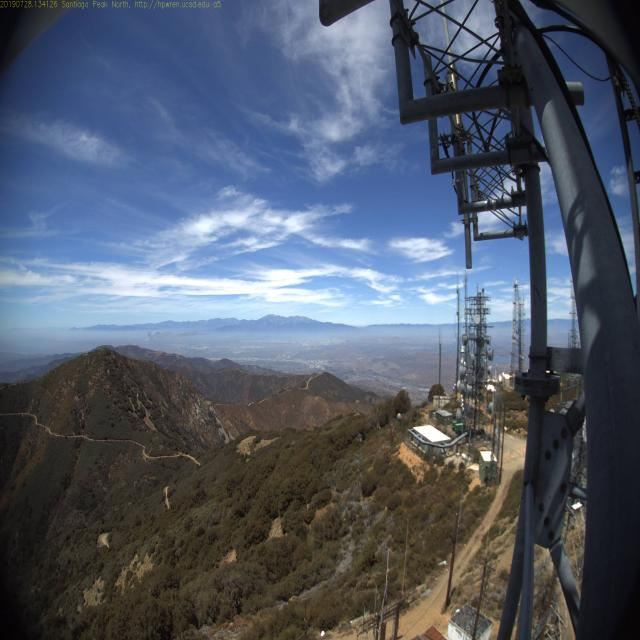smoke: (139, 318, 166, 348)
